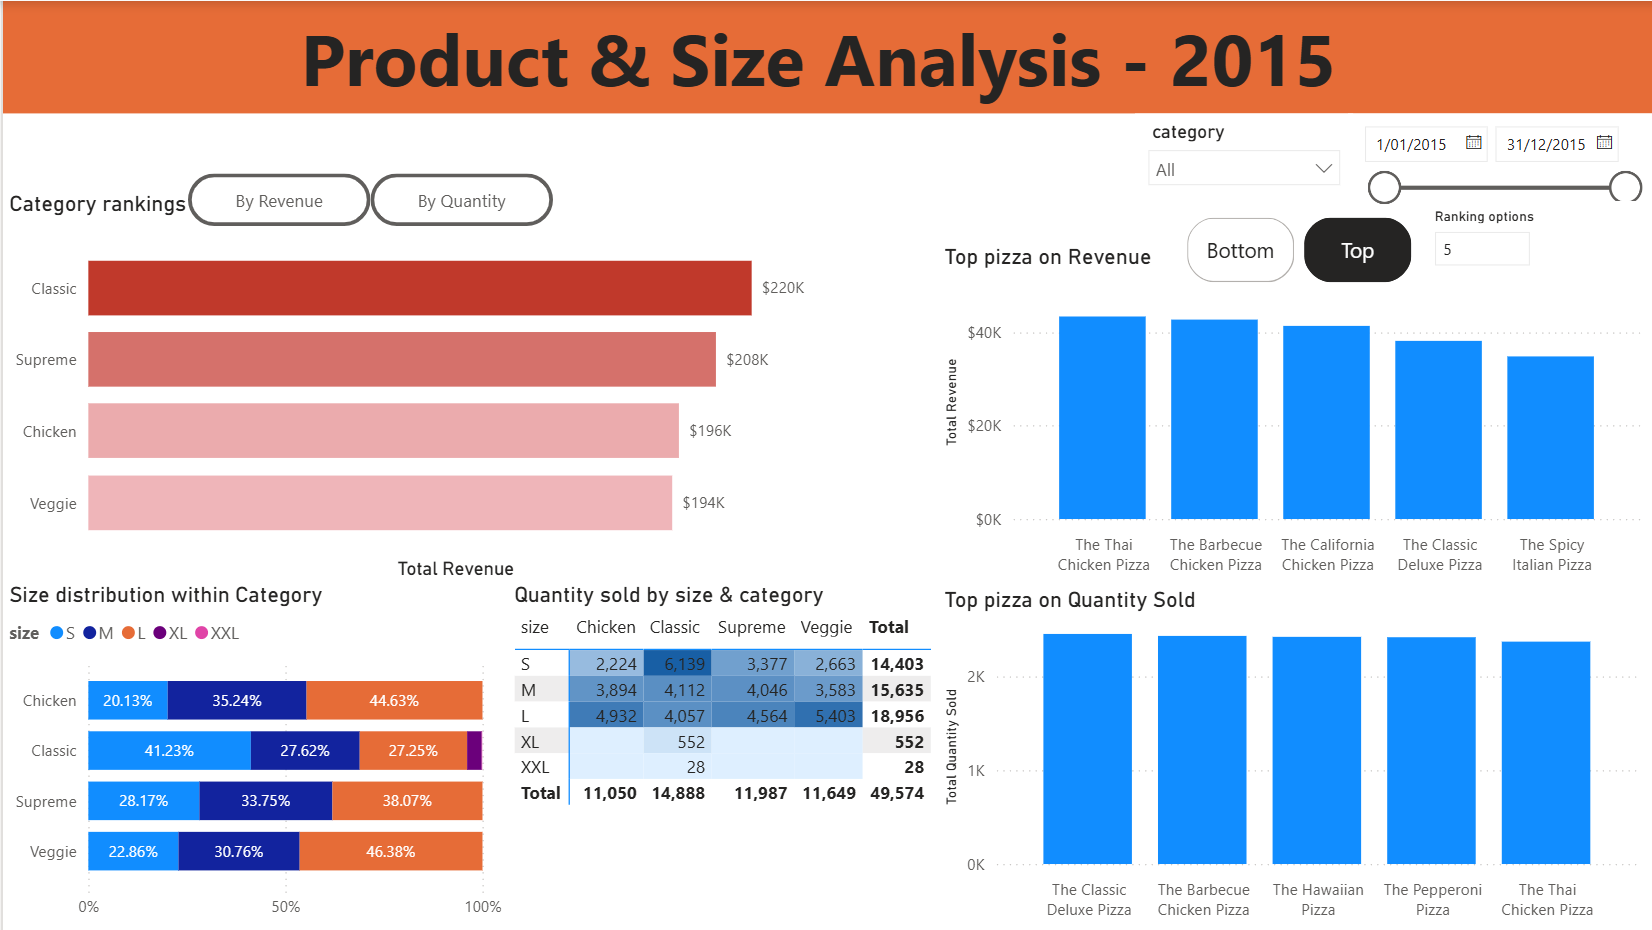

What the dashboard file says about the page in this screenshot:
{"tool":"powerbi","page":{"name":"Product & Size Analysis","canvas":[1280,720],"ordinal":2},"visuals":[{"type":"textbox","box":[0,0,1280.7,87.1],"z":0},{"type":"slicer","fields":{"Values":["dim_pizza.category"]},"box":[878.5,87.3,168.7,64],"z":1000},{"type":"slicer","fields":{"Values":["dim_date.date"]},"box":[1043.4,87.3,236.6,75.6],"z":2000},{"type":"clusteredBarChart","title":"Category rankings","fields":{"Category":["dim_pizza.category"],"Y":["Measure.Total Revenue"]},"box":[0,146.9,641.1,304.5],"z":3000},{"type":"actionButton","box":[143.5,133.8,141.6,40.7],"z":4000},{"type":"actionButton","box":[285.1,133.8,141.6,40.7],"z":5000},{"type":"columnChart","title":"Top pizza on Revenue","fields":{"Category":["dim_pizza.name"],"Y":["Measure.Total Revenue"]},"box":[725.3,188.1,550.8,263.8],"z":7000},{"type":"advancedSlicerVisual","fields":{"Values":["Top/Bottom.Value"]},"box":[912.6,163.4,186,60.8],"z":8000},{"type":"slicer","fields":{"Values":["Ranking options.Ranking options"]},"box":[1098.5,154.7,180.8,69.5],"z":9000},{"type":"columnChart","title":"Top pizza on Quantity Sold","fields":{"Category":["dim_pizza.name"],"Y":["Measure.Total Quantity Sold"]},"box":[725.3,453.8,548.8,265.7],"z":10000},{"type":"hundredPercentStackedBarChart","title":"Size distribution within Category","fields":{"Category":["dim_pizza.category"],"Y":["Measure.% Qty by Size within Category"],"Series":["dim_pizza.size"]},"box":[0,449.9,391.8,269.6],"z":11000},{"type":"pivotTable","title":"Quantity sold by size & category","fields":{"Rows":["dim_pizza.size"],"Columns":["dim_pizza.category"],"Values":["Measure.Qty by Size"]},"box":[391.8,449.9,333.6,184.2],"z":12000}]}

Visuals, with their boxes in screenshot pixels (x1, y1, x2, y2), scaled from the page's 1280x720 canvas onto the 1652x930 screenshot:
textbox: bbox=(0, 0, 1651, 113)
slicer - dim_pizza.category: bbox=(1134, 113, 1352, 195)
slicer - dim_date.date: bbox=(1347, 113, 1651, 210)
"Category rankings" clusteredBarChart: bbox=(0, 190, 827, 583)
actionButton: bbox=(185, 173, 368, 225)
actionButton: bbox=(368, 173, 551, 225)
"Top pizza on Revenue" columnChart: bbox=(936, 243, 1647, 584)
advancedSlicerVisual - Top/Bottom.Value: bbox=(1178, 211, 1418, 290)
slicer - Ranking options.Ranking options: bbox=(1418, 200, 1651, 290)
"Top pizza on Quantity Sold" columnChart: bbox=(936, 586, 1644, 929)
"Size distribution within Category" hundredPercentStackedBarChart: bbox=(0, 581, 506, 929)
"Quantity sold by size & category" pivotTable: bbox=(506, 581, 936, 819)
